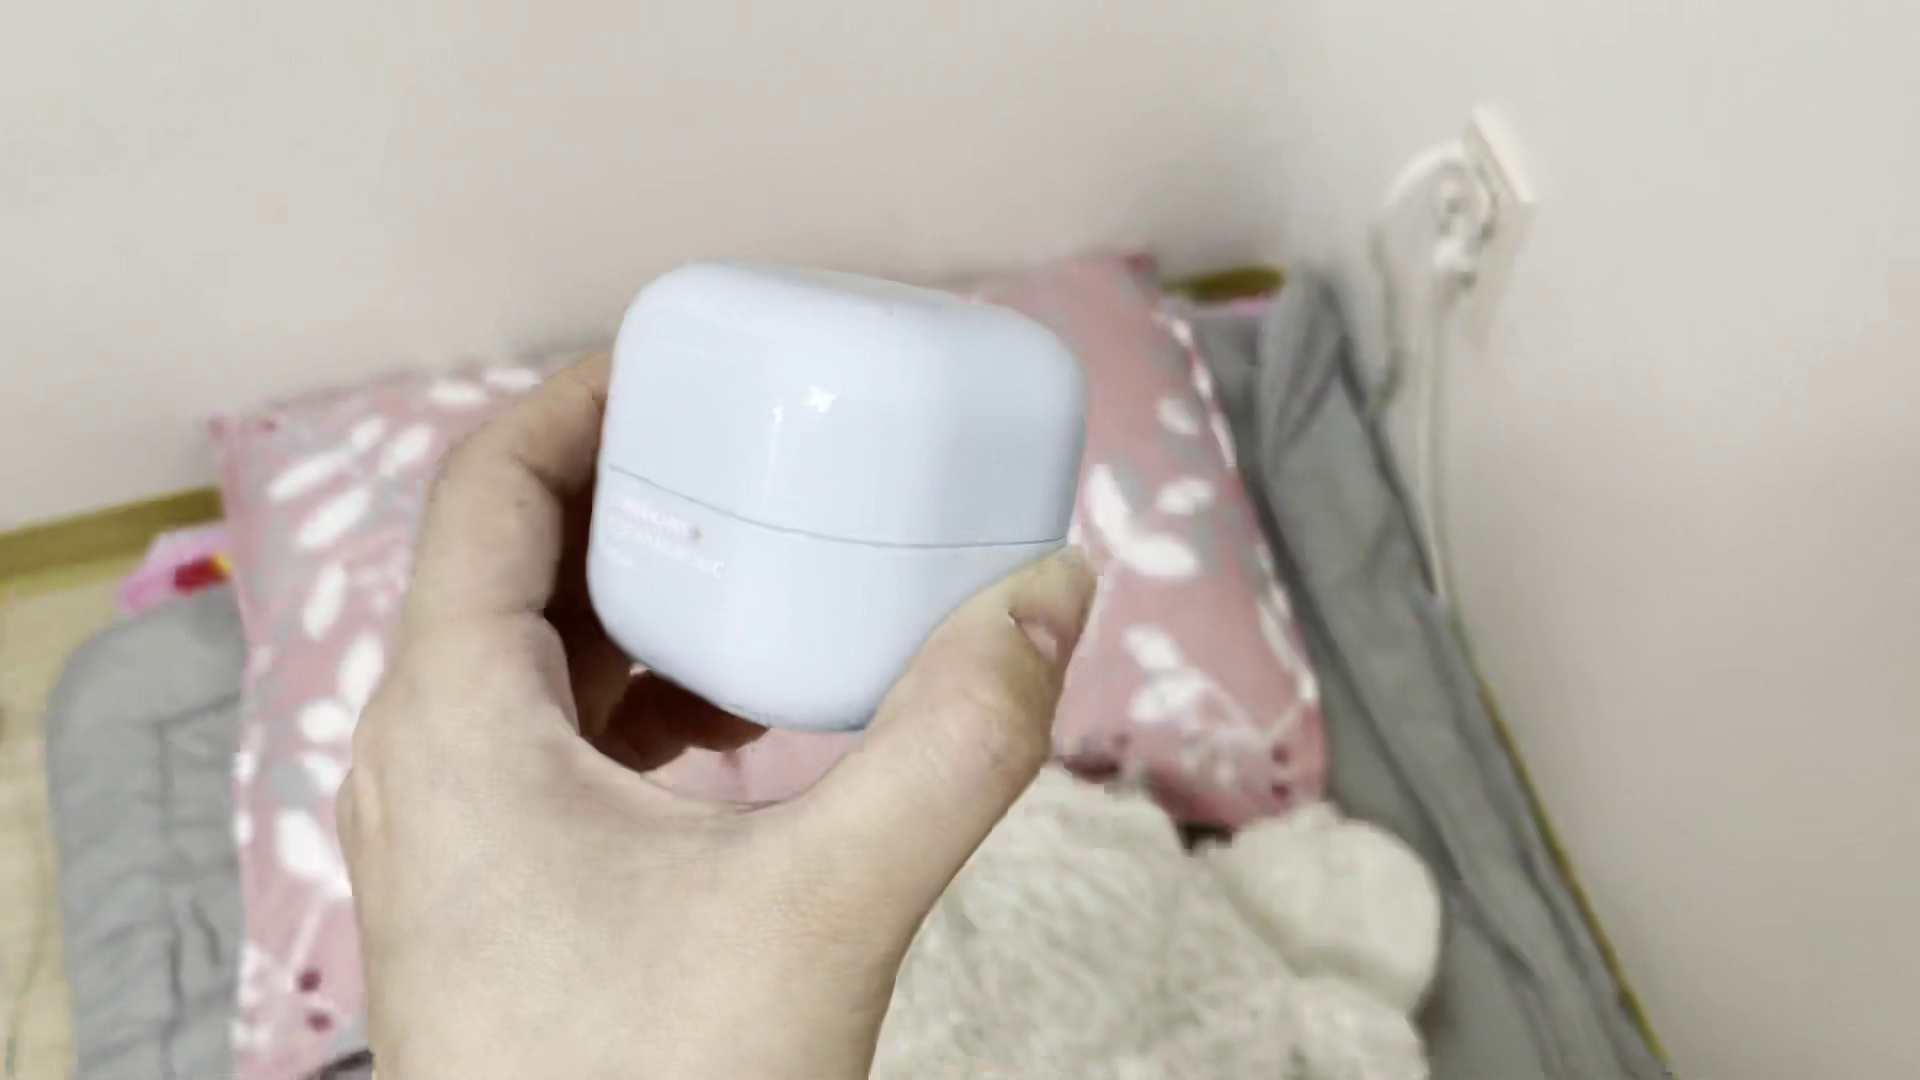cream: (585, 256, 1085, 721)
